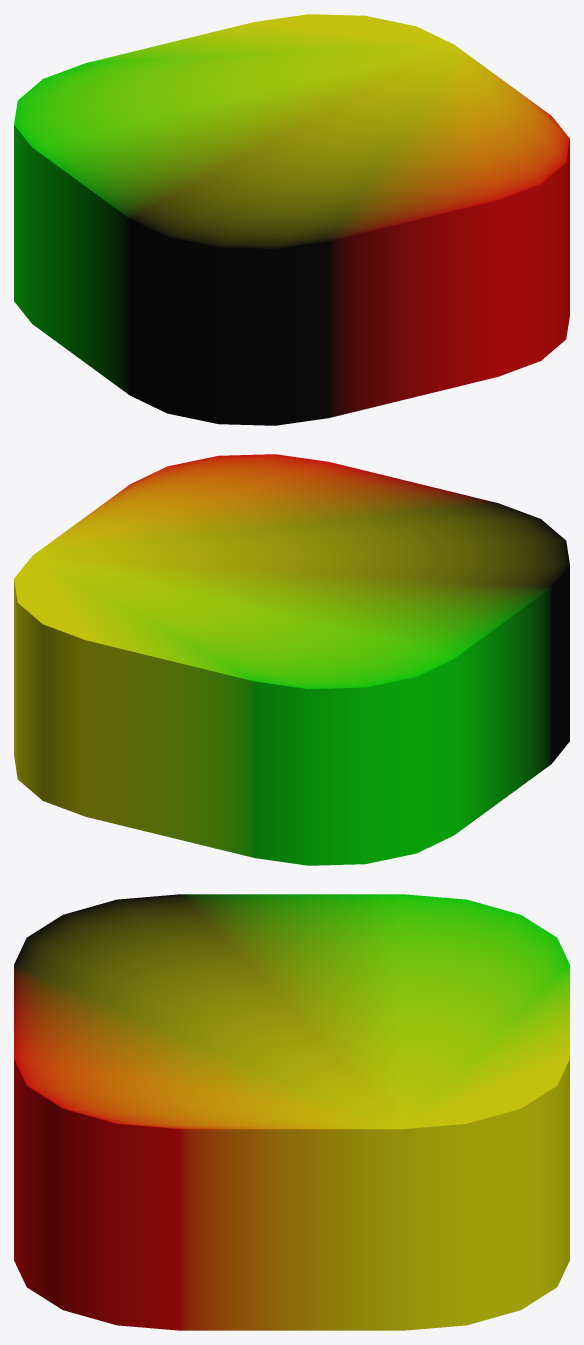
Rendered from StratchablePanel.fbx.
The picture shows the model from 3 angles, top to bottom: view 1: azimuth 30°, elevation 25°; view 2: azimuth 150°, elevation 25°; view 3: azimuth 270°, elevation 25°; orthographic projection. The views are drawn at different scales.
Parts seen in each view (by area): view 1: StratchablePanel; view 2: StratchablePanel; view 3: StratchablePanel.
Boxes of the visible parts, left/top/right/bottom form: StratchablePanel: left=14, top=14, right=569, bottom=425; StratchablePanel: left=14, top=454, right=569, bottom=865; StratchablePanel: left=14, top=894, right=569, bottom=1330.
Size of the model in its own units: 100 by 40 by 100.
